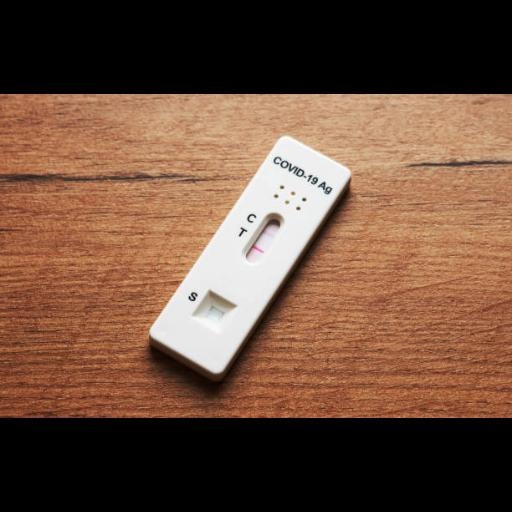Pos: (148, 133, 352, 374)
